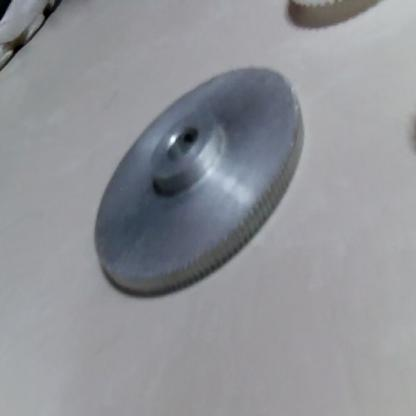FOD: (88, 56, 308, 296)
